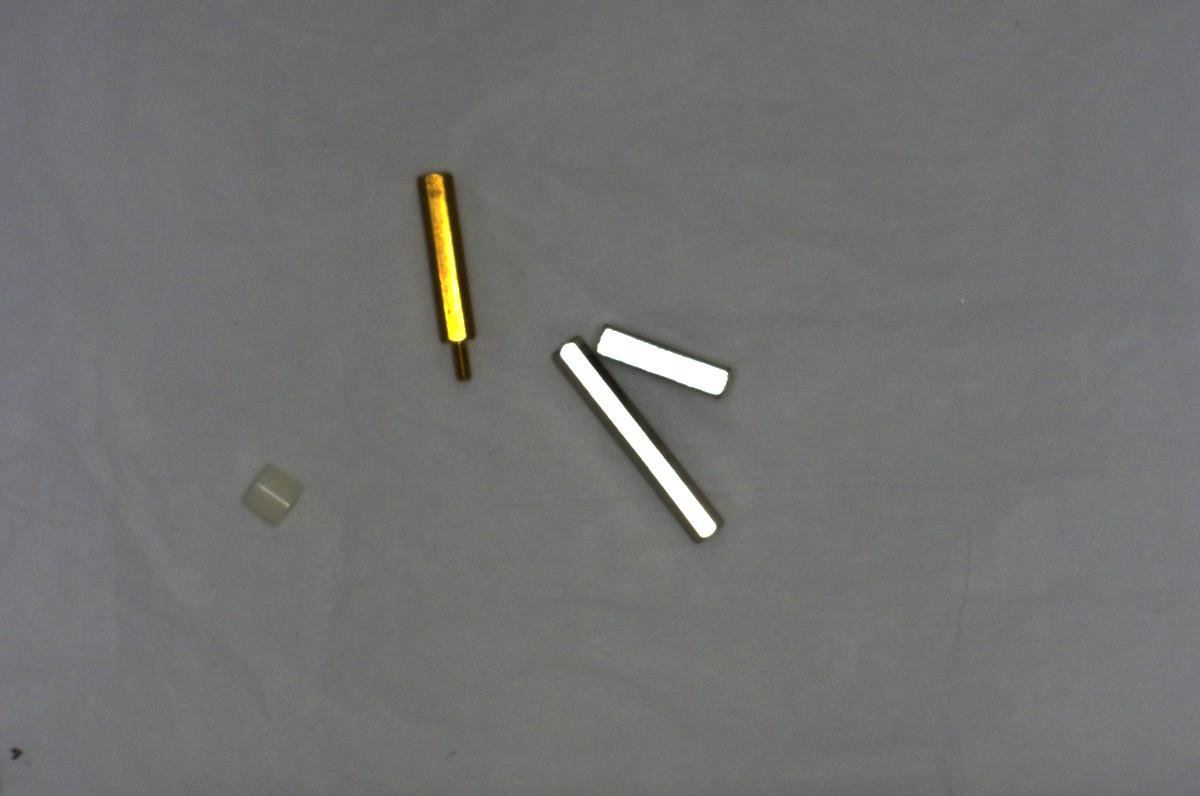Double hexagonal column: (552, 330, 727, 545)
Hexagon pillar: (414, 161, 479, 385)
Plastic cushion pillar: (232, 459, 305, 525)
Rectangular nut: (595, 318, 733, 402)
